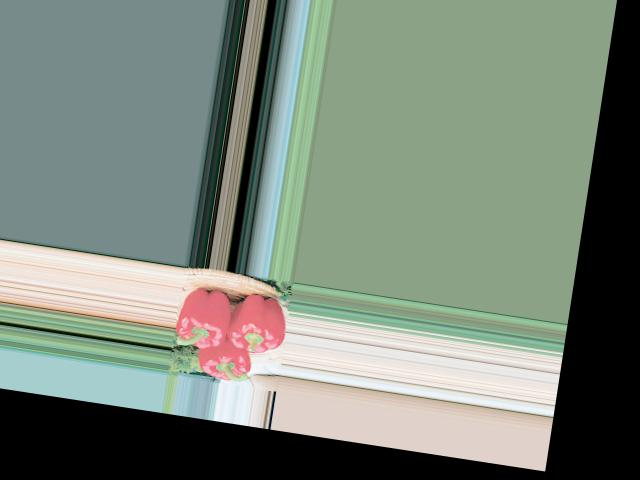bell_pepper: (174, 277, 242, 353)
